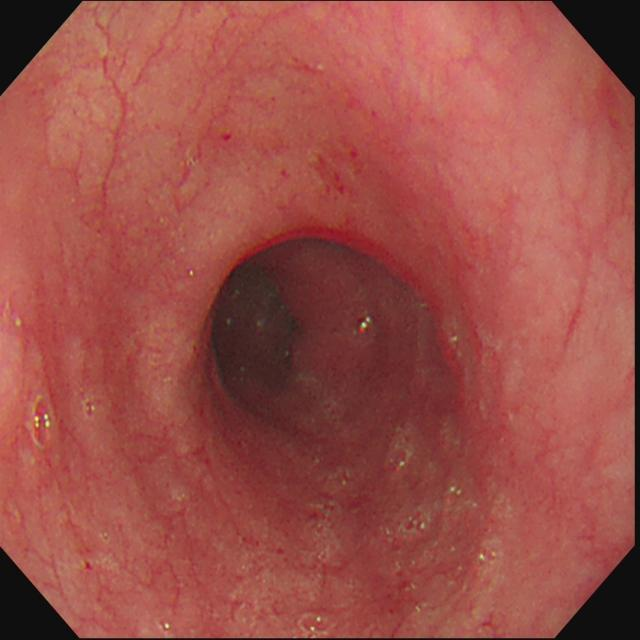E: (196, 253, 308, 420)
T: (385, 422, 418, 473), (31, 395, 57, 452), (399, 505, 434, 539), (294, 608, 330, 637)
